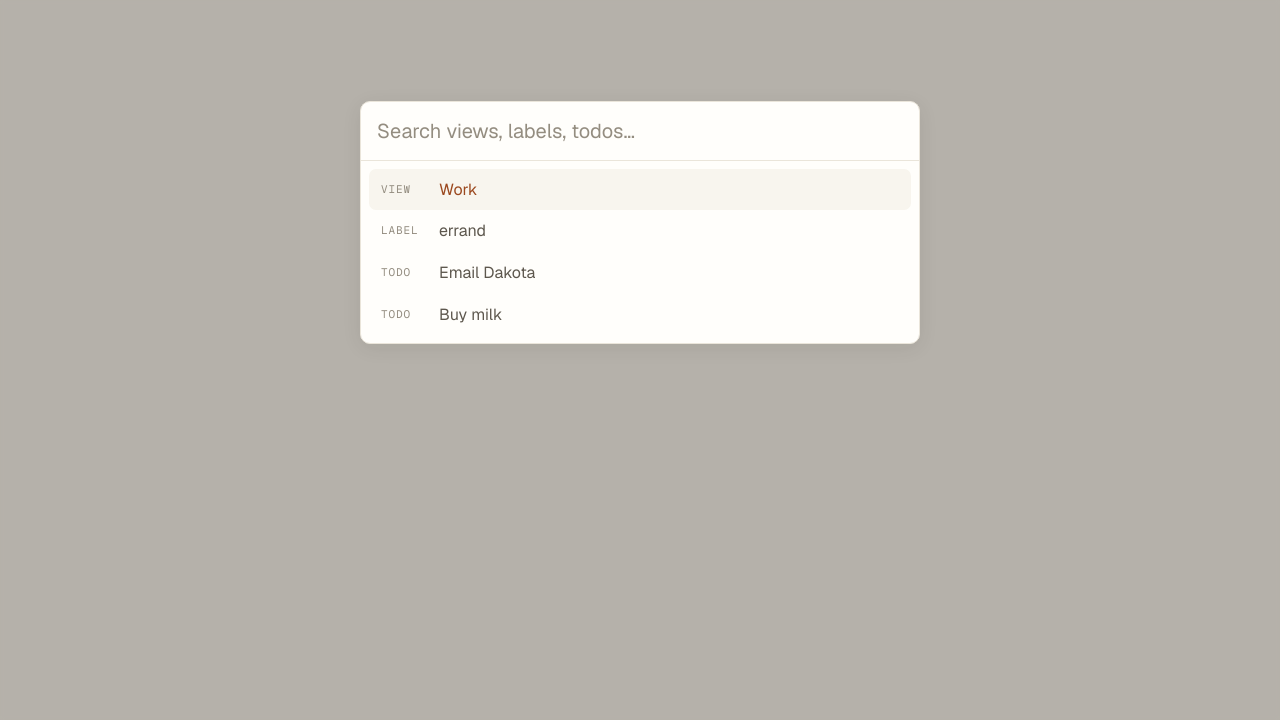
CommandPalette › filters items by query substring (case-insensitive)
This screenshot has width=1280, height=720.
Type "mil" into the dropdown at (640, 131), box top-left (361, 102), bottom-right (919, 161)
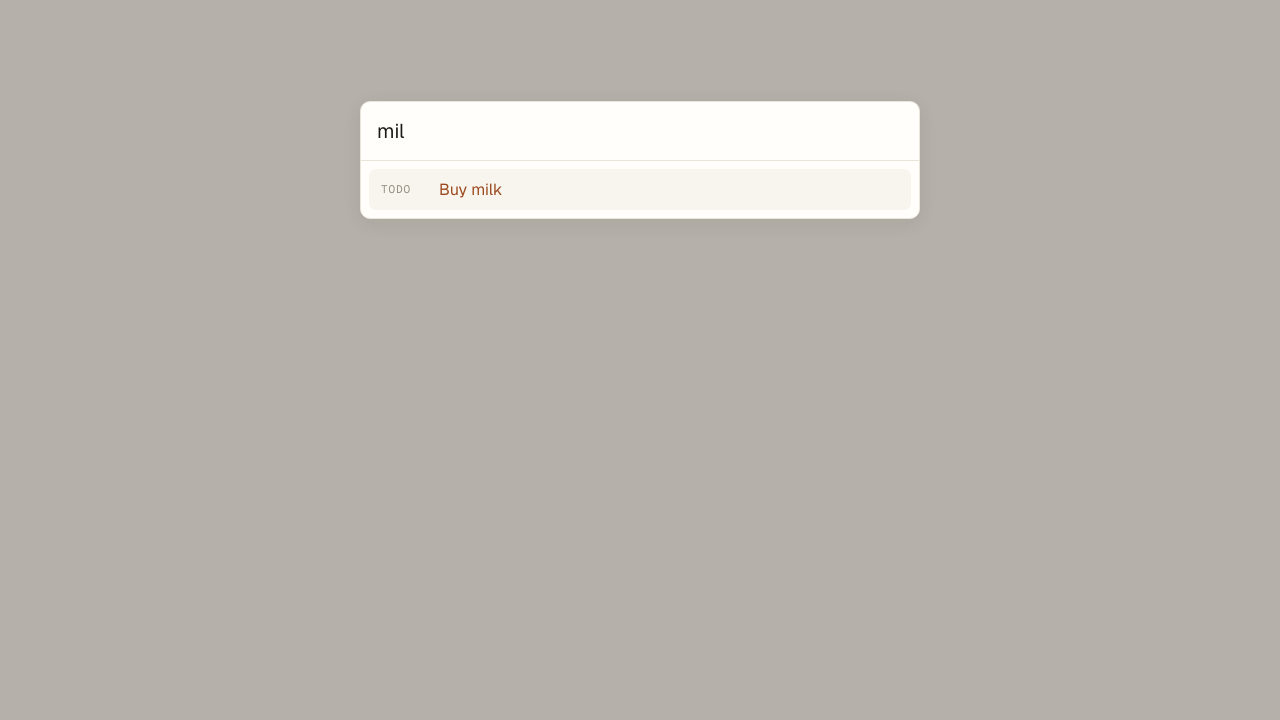
Expected: the text "Buy milk" is shown, top-left (439, 177), bottom-right (502, 202)
Expected: the option "Email Dakota" is gone
